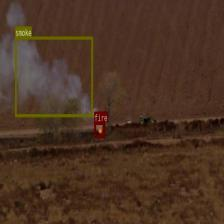fire: (93, 121, 104, 137)
smoke: (15, 36, 92, 116)
